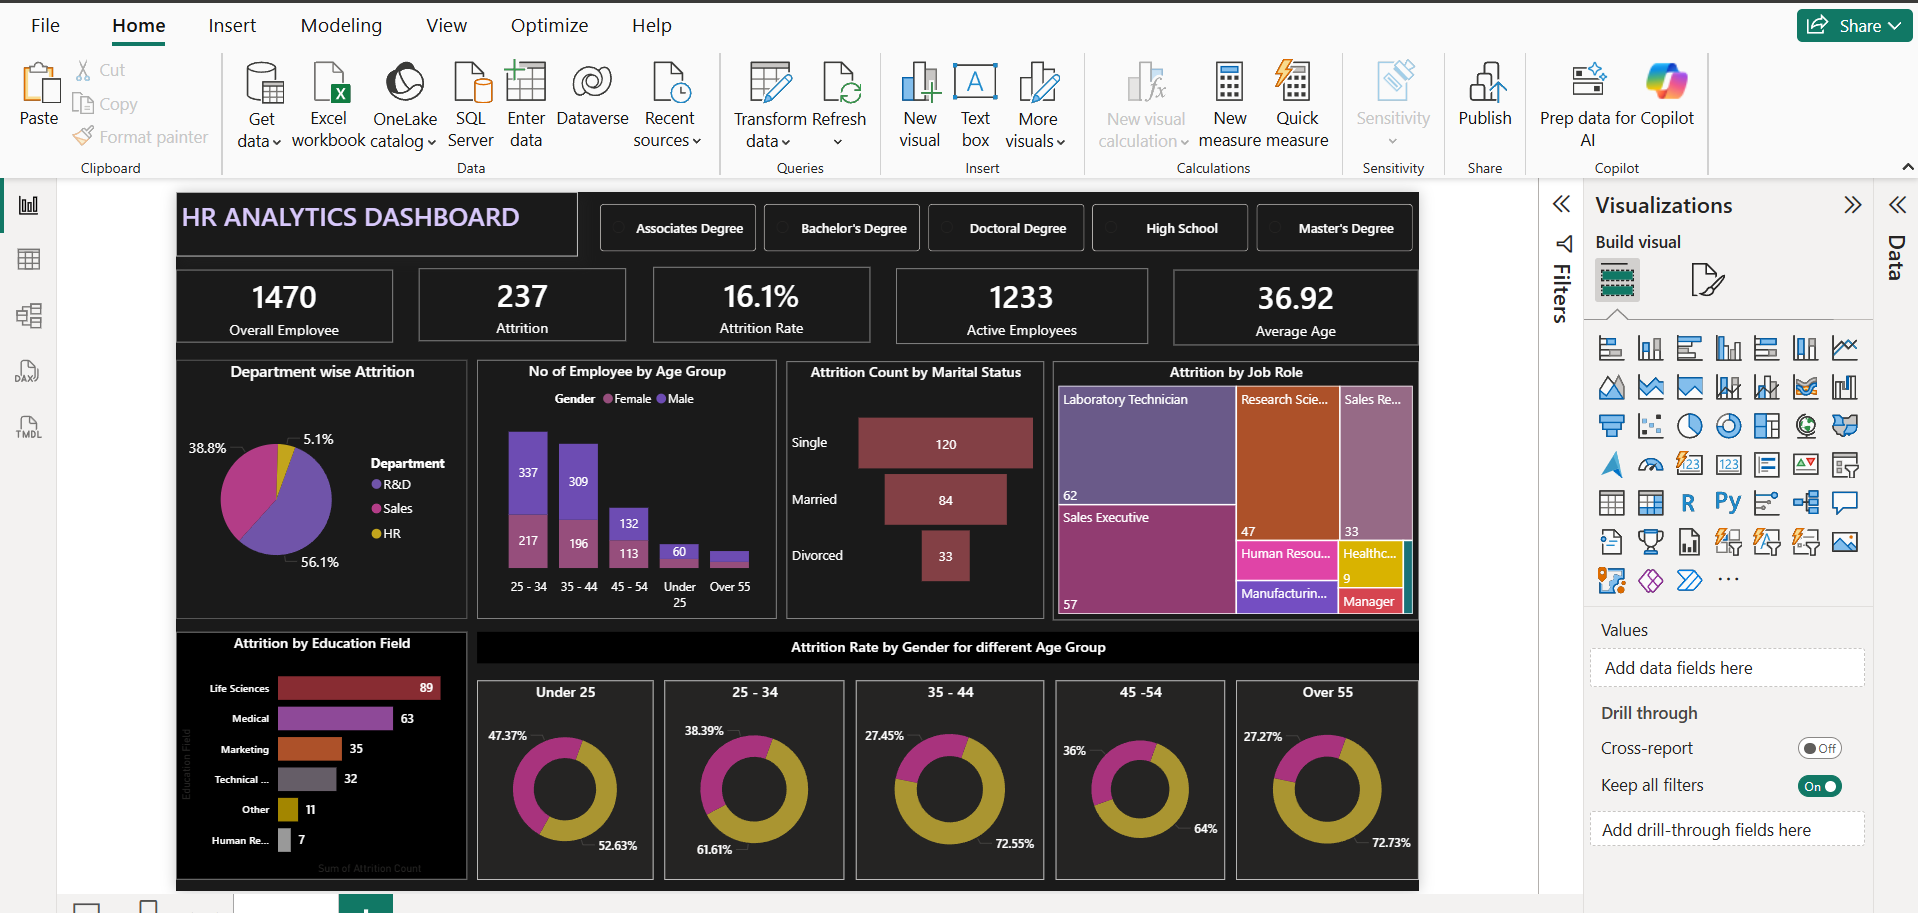

The page's visual inventory and layout, read from the dashboard file:
{"tool":"powerbi","page":{"name":"Page 1","canvas":[1280,720],"ordinal":0},"visuals":[{"type":"card","title":"Total Employee","fields":{"Values":["Sum(Data.Employee Count)"]},"box":[0,79.3,223.5,75],"z":0},{"type":"card","title":"Total Employee","fields":{"Values":["Sum(Data.Attrition Count)"]},"box":[250.6,77.9,213.4,75],"z":1000},{"type":"card","title":"Total Employee","fields":{"Values":["Data.Attrition Rate"]},"box":[491,76.4,223.5,77.9],"z":2000},{"type":"card","title":"Total Employee","fields":{"Values":["Data.Active Employees"]},"box":[741.6,77.9,259.6,77.9],"z":3000},{"type":"card","title":"Total Employee","fields":{"Values":["Avg(Data.Age)"]},"box":[1027.6,79.3,252.4,77.9],"z":4000},{"type":"pieChart","title":"Department wise Attrition","fields":{"Category":["Data.Department"],"Y":["Sum(Data.Attrition Count)"]},"box":[0,173,299.9,266.4],"z":5000},{"type":"columnChart","title":"No of Employee by Age Group","fields":{"Category":["Data.CF_age band"],"Y":["Sum(Data.Employee Count)"],"Series":["Data.Gender"]},"box":[310.1,173.4,308.3,266.4],"z":6000},{"type":"barChart","title":"Attrition by Education Field","fields":{"Category":["Data.Education Field"],"Y":["Sum(Data.Attrition Count)"]},"box":[0,453.4,299.9,255.3],"z":7000},{"type":"donutChart","title":"Over 55","fields":{"Category":["Data.Gender"],"Y":["Sum(Data.Attrition Count)"],"Series":["Data.CF_age band"]},"box":[1091.7,503.6,188.3,205.1],"z":8000},{"type":"textbox","box":[309.7,453.4,970.9,32.1],"z":9000},{"type":"donutChart","title":"Under 25","fields":{"Category":["Data.Gender"],"Y":["Sum(Data.Attrition Count)"],"Series":["Data.CF_age band"]},"box":[309.7,503.6,181.3,205.1],"z":10000},{"type":"donutChart","title":"35 - 44","fields":{"Category":["Data.Gender"],"Y":["Sum(Data.Attrition Count)"],"Series":["Data.CF_age band"]},"box":[700.3,503.6,193.9,205.1],"z":11000},{"type":"donutChart","title":"45 -54","fields":{"Category":["Data.Gender"],"Y":["Sum(Data.Attrition Count)"],"Series":["Data.CF_age band"]},"box":[906,503.6,174.4,205.1],"z":12000},{"type":"donutChart","title":"25 - 34","fields":{"Category":["Data.Gender"],"Y":["Sum(Data.Attrition Count)"],"Series":["Data.CF_age band"]},"box":[502.9,503.6,185.5,205.1],"z":13000},{"type":"textbox","box":[0,0,413.9,66.3],"z":14000},{"type":"treemap","title":"Attrition by Job Role","fields":{"Values":["Sum(Data.Attrition Count)"],"Group":["Data.Job Role"]},"box":[903.4,173.9,376.6,266.4],"z":15000},{"type":"advancedSlicerVisual","fields":{"Values":["Data.Education"]},"box":[431.2,7.2,849.4,59.1],"z":16000},{"type":"funnel","title":"Attrition Count by Marital Status","fields":{"Y":["Sum(Data.Attrition Count)"],"Category":["Data.Marital Status"]},"box":[628.6,174.4,265,265],"z":17000}]}

Visuals, with their boxes on the page's 1280x720 design canvas (x1, y1, x2, y2). These are canvas units, not pixel positions in the 1918x913 screenshot, which may show the page scaled, cropped or inside an application window:
"Total Employee" card: BBox(0, 79, 224, 154)
"Total Employee" card: BBox(251, 78, 464, 153)
"Total Employee" card: BBox(491, 76, 714, 154)
"Total Employee" card: BBox(742, 78, 1001, 156)
"Total Employee" card: BBox(1028, 79, 1280, 157)
"Department wise Attrition" pieChart: BBox(0, 173, 300, 439)
"No of Employee by Age Group" columnChart: BBox(310, 173, 618, 440)
"Attrition by Education Field" barChart: BBox(0, 453, 300, 709)
"Over 55" donutChart: BBox(1092, 504, 1280, 709)
textbox: BBox(310, 453, 1281, 486)
"Under 25" donutChart: BBox(310, 504, 491, 709)
"35 - 44" donutChart: BBox(700, 504, 894, 709)
"45 -54" donutChart: BBox(906, 504, 1080, 709)
"25 - 34" donutChart: BBox(503, 504, 688, 709)
textbox: BBox(0, 0, 414, 66)
"Attrition by Job Role" treemap: BBox(903, 174, 1280, 440)
advancedSlicerVisual - Data.Education: BBox(431, 7, 1281, 66)
"Attrition Count by Marital Status" funnel: BBox(629, 174, 894, 439)
